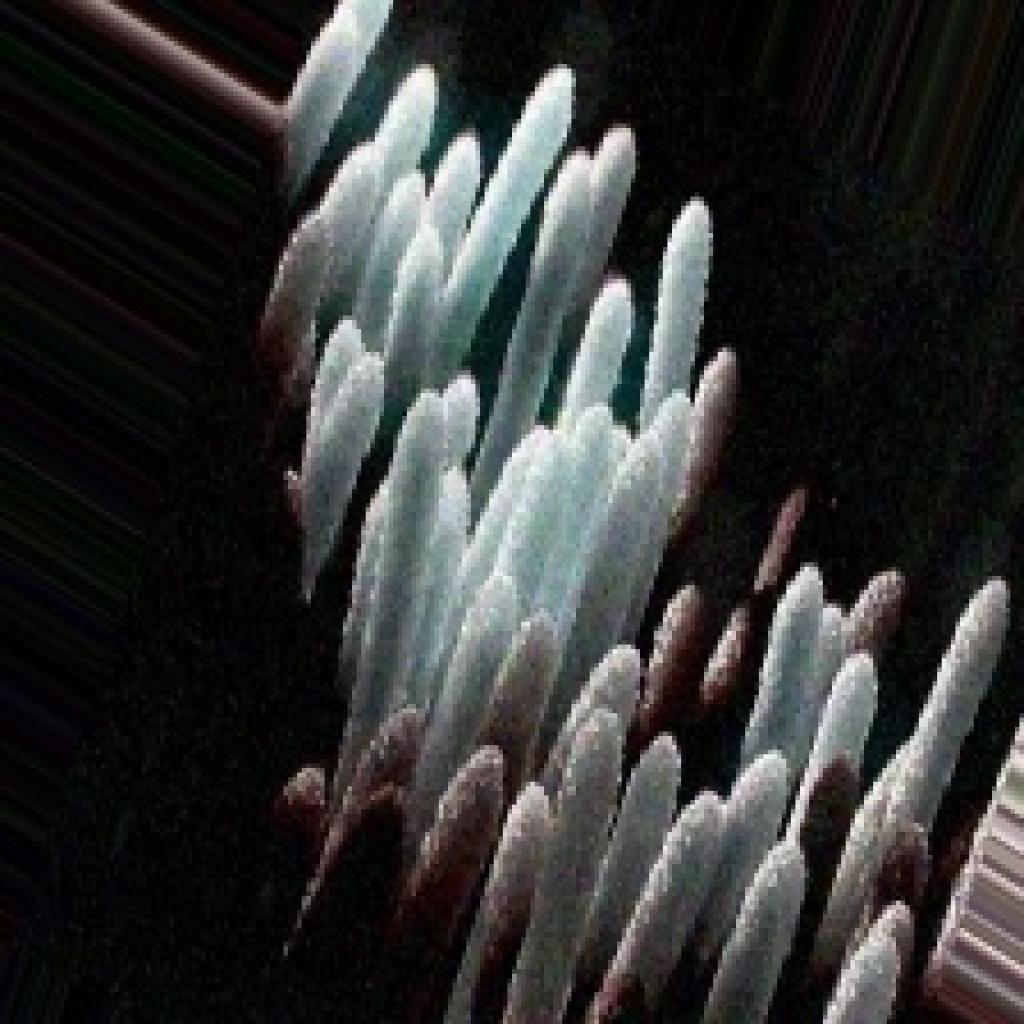Yeast: (209, 0, 1024, 1024)
